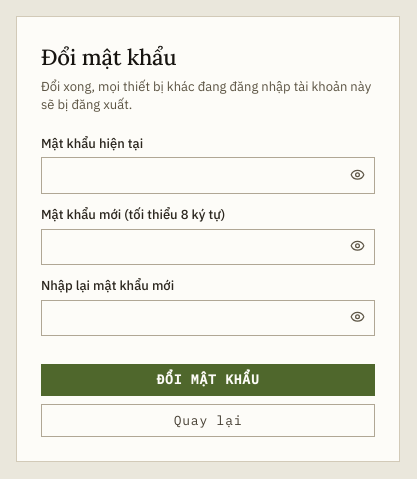
Test: lối TỰ NGUYỆN — từ menu tài khoản › đổi xong có màn báo — không phải im lặng quay về như chưa có gì
Type "matkhau123" into the password field labelled "Mật khẩu hiện tại" at (208, 176), box [41,157,375,194]
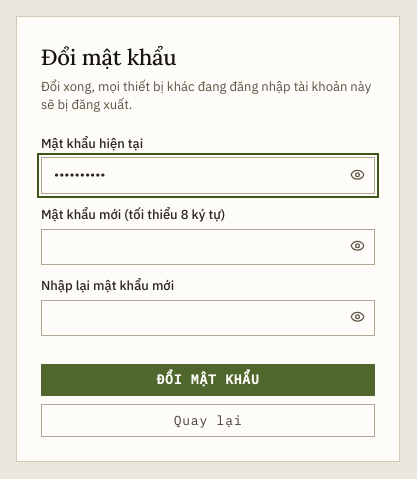
Type "matkhaumoi456" into the password field labelled "Mật khẩu mới (tối thiểu 8 ký tự)" at (208, 247), box [41,229,375,265]
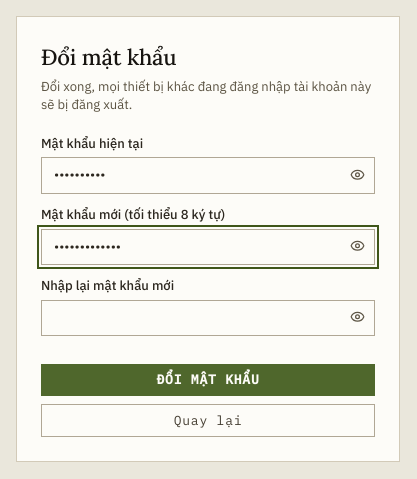
Type "matkhaumoi456" into the password field labelled "Nhập lại mật khẩu mới" at (208, 318), box [41,300,375,336]
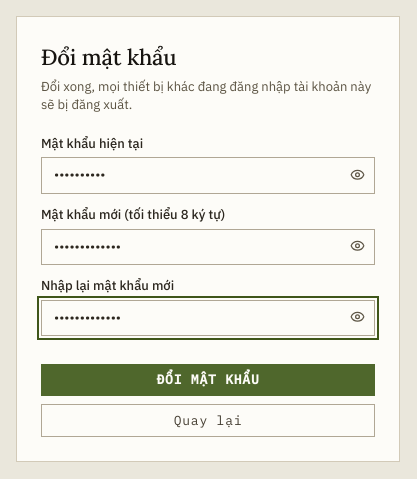
Click the button "Đổi mật khẩu" at (208, 380), box [41,364,375,396]
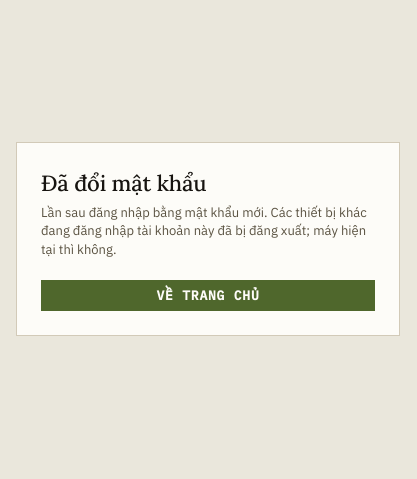
Check: the heading "Đã đổi mật khẩu" is shown, box [41,169,206,197]
Check: the button "Về trang chủ" is shown, box [41,280,375,311]
